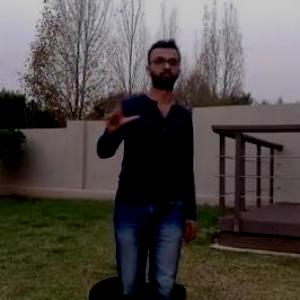land_hand: (98, 83, 142, 132)
